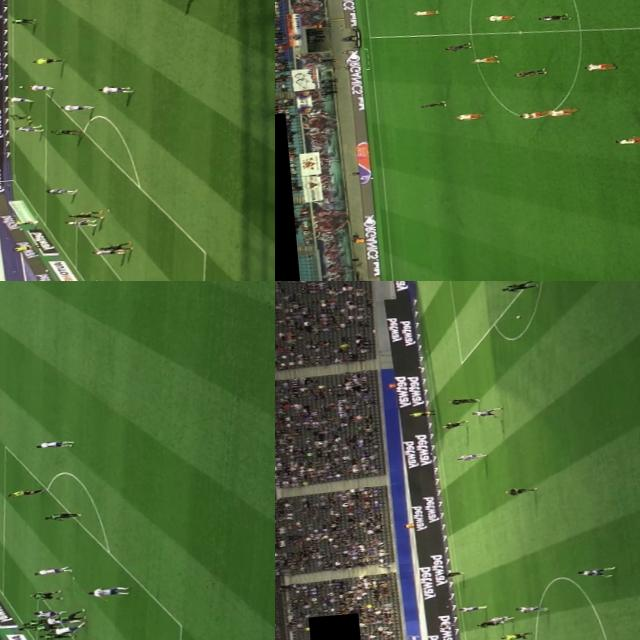ball: (509, 310, 528, 322), (16, 84, 25, 88)
player: (32, 435, 74, 449), (86, 584, 128, 598), (580, 60, 620, 74), (98, 82, 136, 96), (29, 564, 72, 576), (26, 587, 60, 602), (41, 509, 78, 522), (578, 566, 618, 578), (96, 240, 134, 252), (503, 484, 540, 496), (518, 108, 554, 120), (40, 612, 76, 624), (471, 406, 504, 419), (500, 281, 539, 292), (34, 629, 72, 640), (534, 10, 566, 23), (66, 208, 100, 220), (613, 131, 640, 146), (86, 248, 122, 259), (63, 217, 98, 228), (454, 450, 489, 461), (14, 122, 46, 134), (544, 105, 578, 116), (417, 98, 448, 110), (30, 606, 61, 618), (516, 66, 548, 77), (409, 6, 444, 16), (446, 396, 481, 406), (512, 603, 546, 613), (472, 53, 502, 64), (50, 624, 86, 633), (48, 126, 78, 136), (48, 184, 78, 194), (442, 40, 472, 50), (62, 102, 89, 113), (9, 15, 38, 25), (54, 610, 83, 620), (442, 418, 471, 428), (439, 568, 467, 578), (7, 94, 34, 104), (9, 111, 31, 123), (25, 82, 50, 92), (487, 12, 512, 22), (29, 622, 58, 630), (14, 623, 47, 630), (23, 617, 50, 625), (457, 112, 483, 120), (477, 620, 502, 628), (458, 604, 483, 612), (31, 636, 68, 640), (488, 616, 512, 622)
